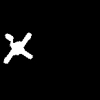single_crochet: (4, 33, 31, 62)
